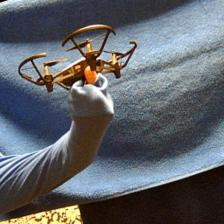drone: (19, 26, 141, 93)
